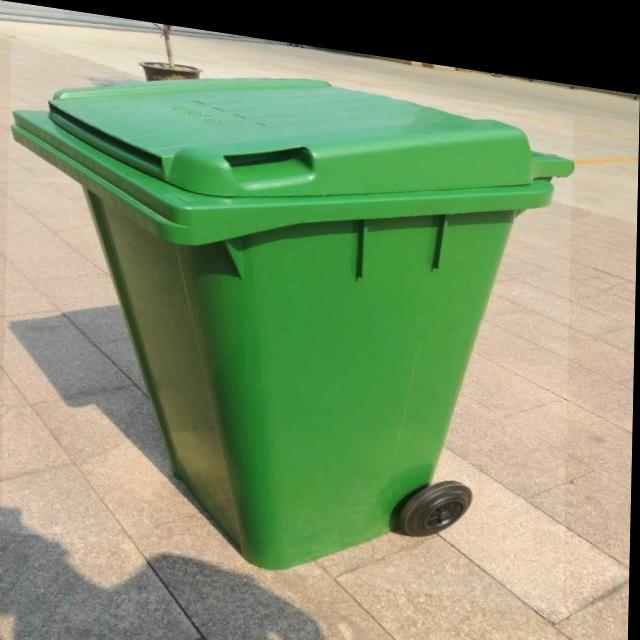garbage_bin: (3, 33, 574, 595)
